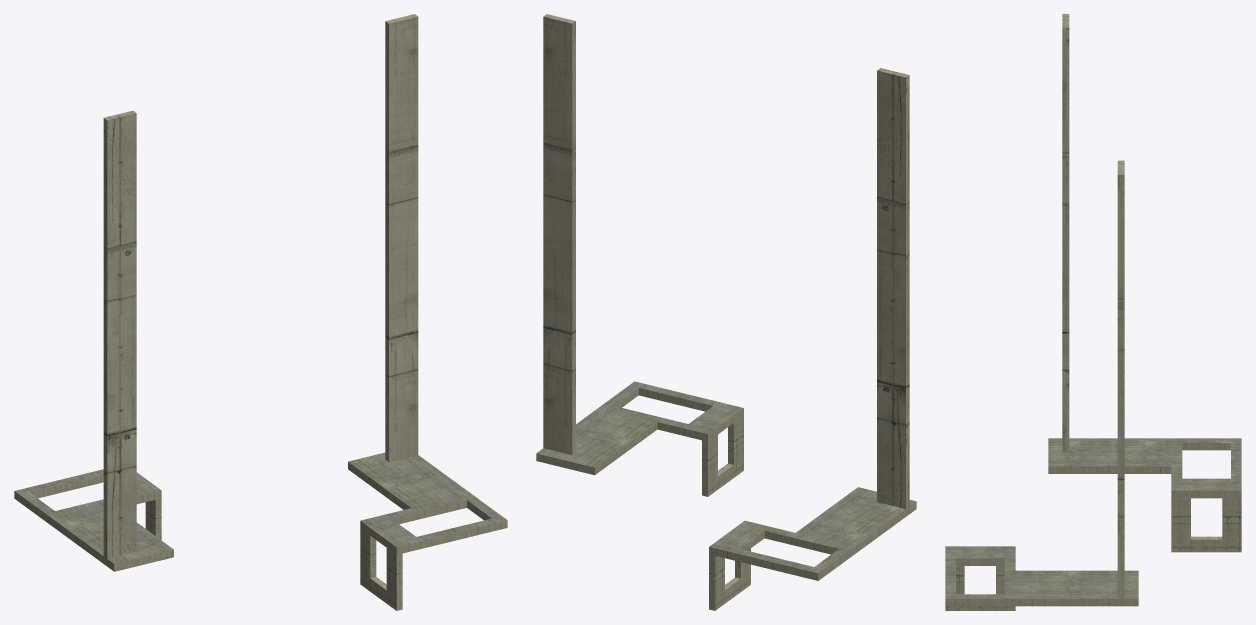
The model's file is SM_NeoLD_07_Block_01.fbx.
3 renders of one model, left to right at view 1: azimuth 30°, elevation 25°; view 2: azimuth 150°, elevation 25°; view 3: azimuth 270°, elevation 25°, orthographic. The views are drawn at different scales.
Visible parts, largest first — view 1: SM_NeoLD_07_Block_01; view 2: SM_NeoLD_07_Block_01; view 3: SM_NeoLD_07_Block_01.
Part boxes in pixels (x1,y1,x2,y2): SM_NeoLD_07_Block_01: [14, 14, 507, 610]; SM_NeoLD_07_Block_01: [536, 14, 916, 610]; SM_NeoLD_07_Block_01: [945, 14, 1241, 610].
Bounding box in the file's own units: 2769 × 3908 × 2162.
